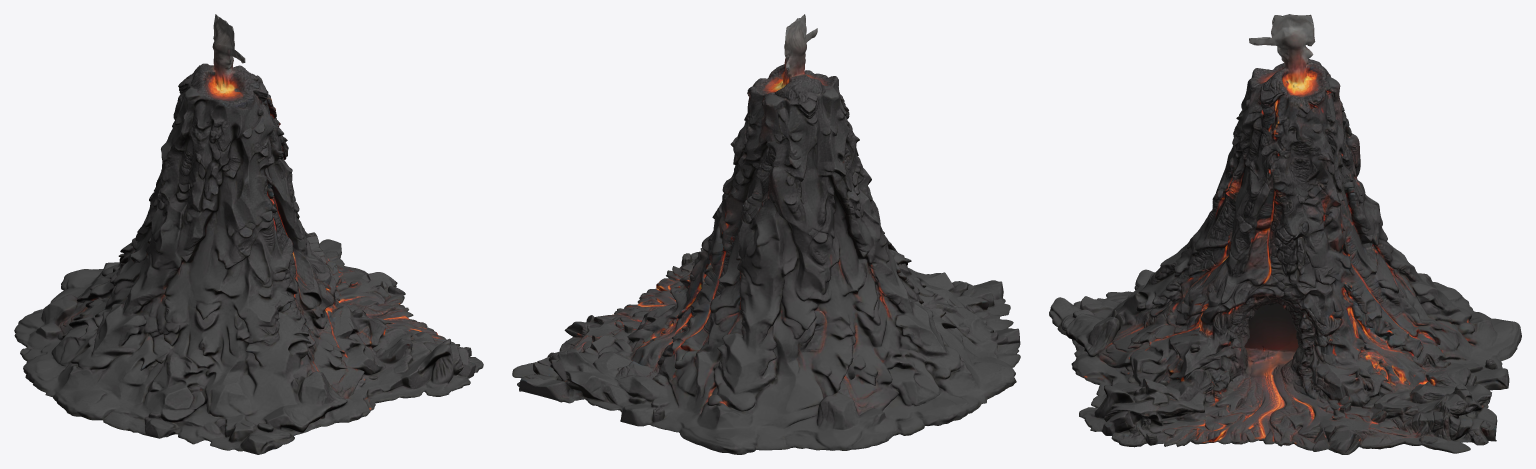
File: venus_crater.glb
The picture shows the model from 3 angles, left to right: view 1: azimuth 30°, elevation 25°; view 2: azimuth 150°, elevation 25°; view 3: azimuth 270°, elevation 25°; orthographic projection. The views are drawn at different scales.
Visible parts, largest first — view 1: tripo_node_595f2bba-fb73-4c36-b992-20942f2307f4; view 2: tripo_node_595f2bba-fb73-4c36-b992-20942f2307f4; view 3: tripo_node_595f2bba-fb73-4c36-b992-20942f2307f4.
Boxes of the visible parts, bbox=[...] form: tripo_node_595f2bba-fb73-4c36-b992-20942f2307f4: bbox=[14, 14, 483, 454]; tripo_node_595f2bba-fb73-4c36-b992-20942f2307f4: bbox=[512, 14, 1020, 454]; tripo_node_595f2bba-fb73-4c36-b992-20942f2307f4: bbox=[1049, 14, 1521, 454].
Size of the model in its own units: 0.9449 by 0.7833 by 0.9801.
Materials: 1 (1 with a texture image).
